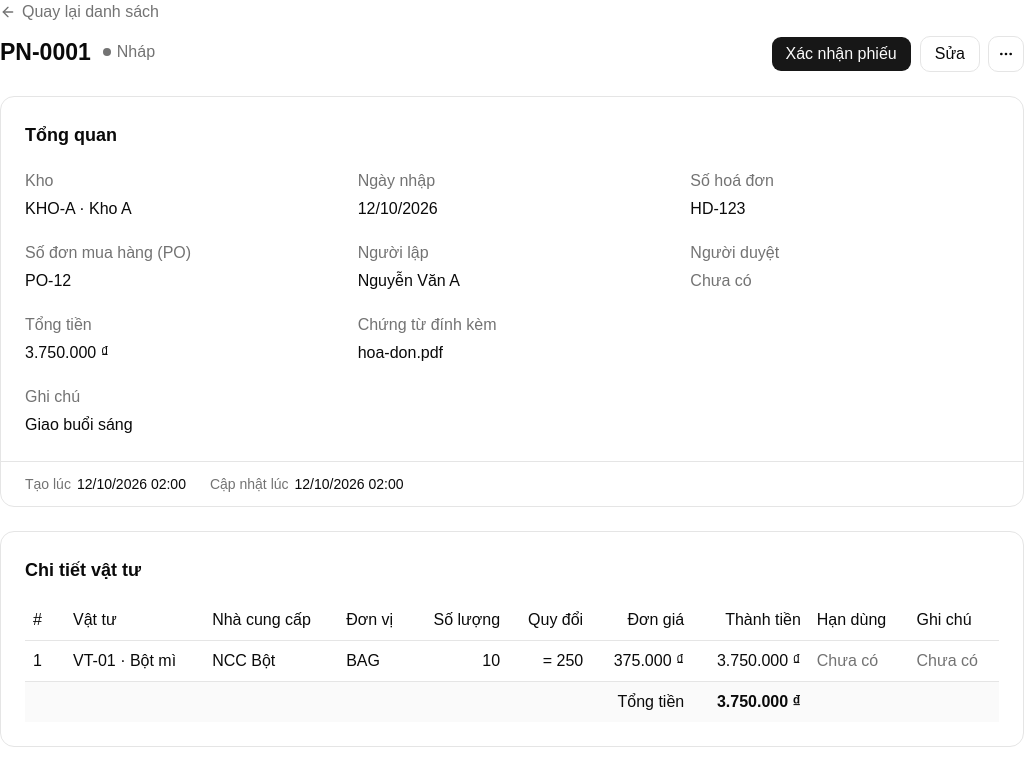
Test case: ImportFormDetailPage › bấm Xác nhận phiếu → mở hộp xác nhận
The width and height of the screenshot is (1024, 768).
What coordinates should you click on to do the following:
click the button "Xác nhận phiếu"
I would click on:
 (841, 54)
Its box is left=770, top=36, right=912, bottom=72.
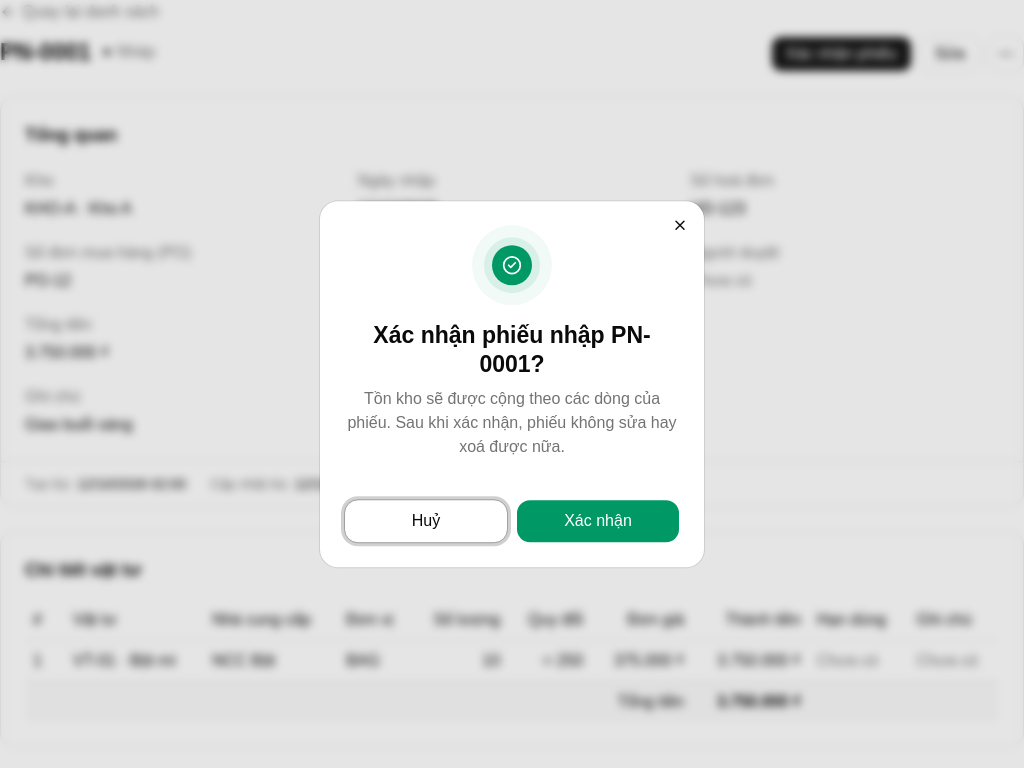
Now the heading "Xác nhận phiếu nhập PN-0001?" is shown, box left=373, top=322, right=651, bottom=377
